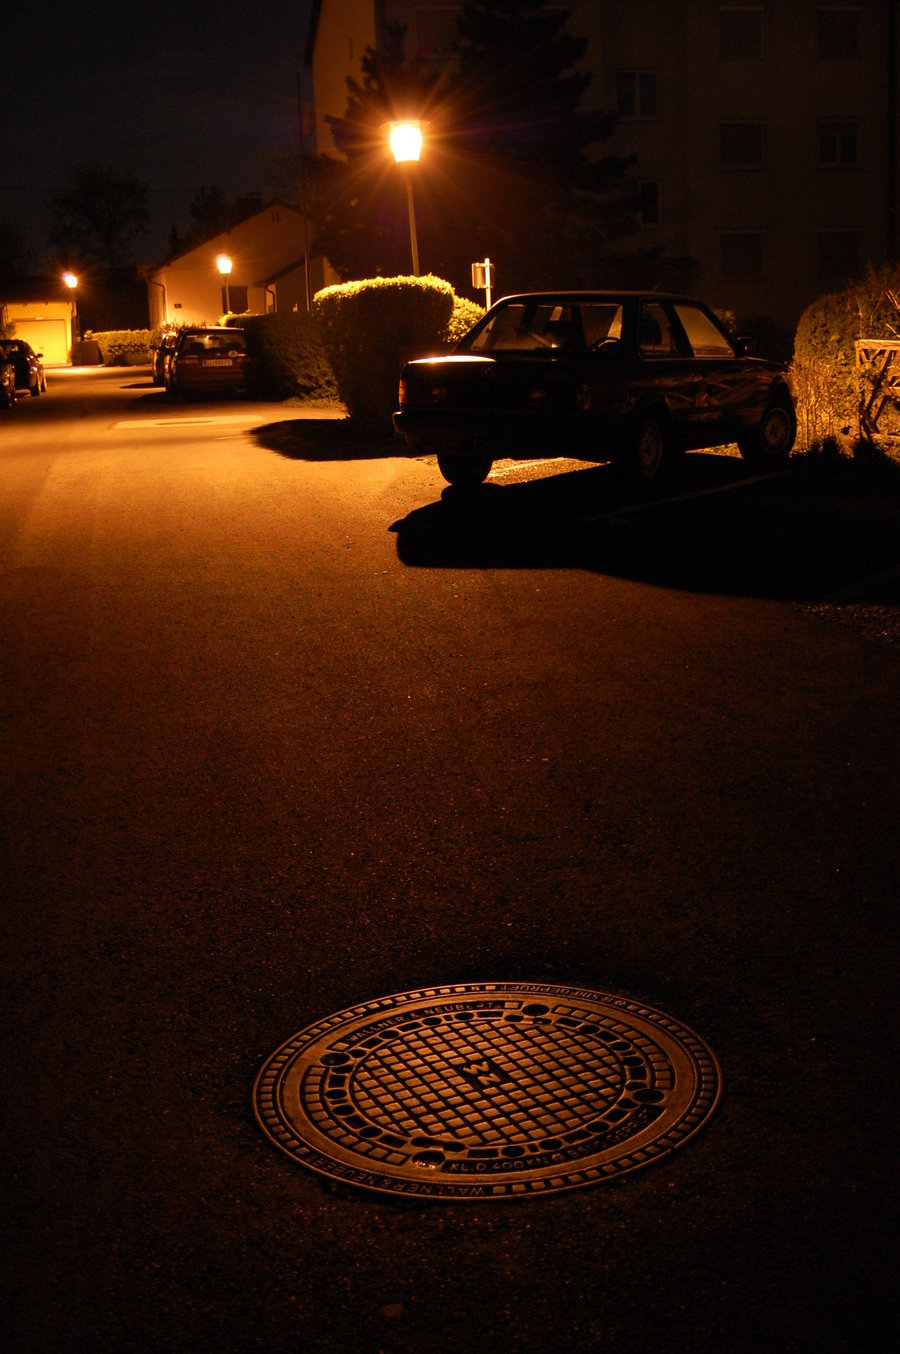car: (149, 319, 276, 410)
